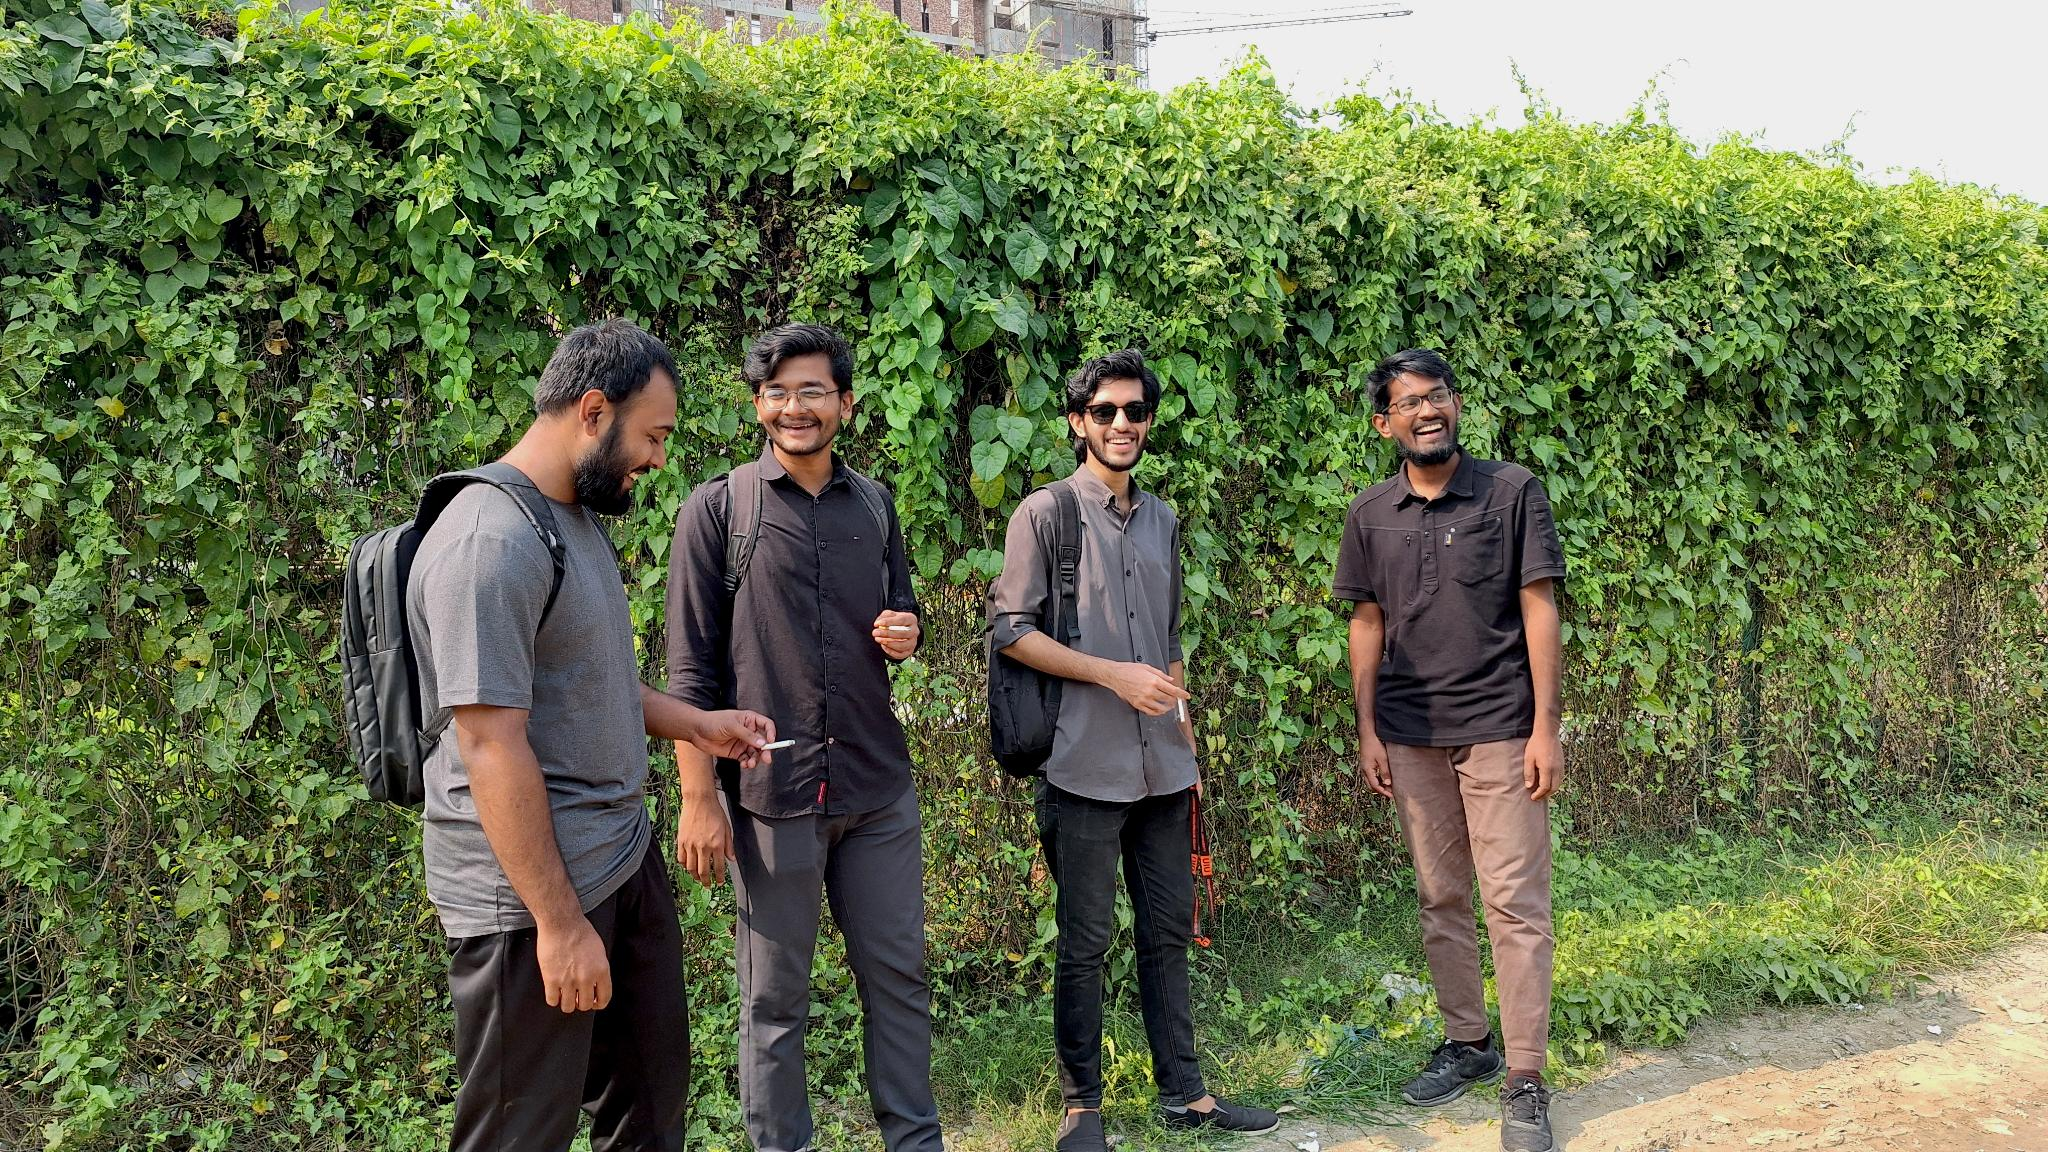cigarette: (760, 738, 798, 753), (1176, 695, 1186, 724), (878, 625, 913, 632)
nonSmoker: (1333, 349, 1567, 1152)
smoker: (339, 319, 776, 1152), (986, 354, 1280, 1152), (665, 321, 942, 1152)
